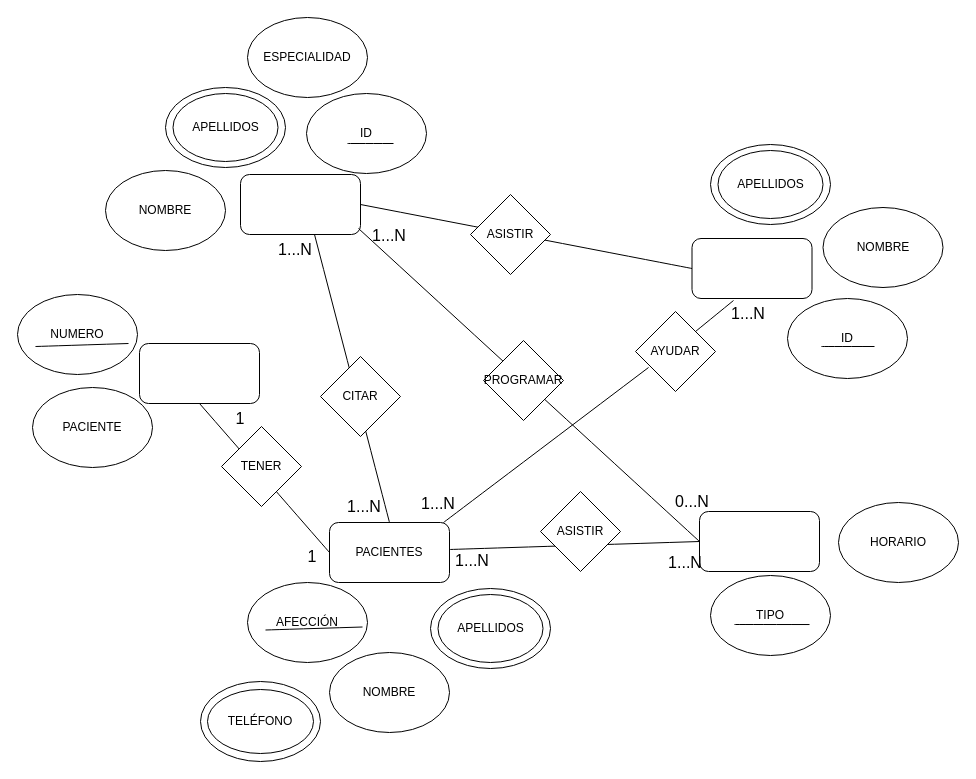
This 976x779 diagram has some shape labels left out. Here are the shapes that lost their labels. From the top down, the box of each, then its label:
(240, 174, 360, 234): MEDICOS
(691, 238, 812, 298): ENFERMEROS
(138, 342, 260, 404): HISTORIAL MÉDICO
(698, 510, 820, 572): CITAS
